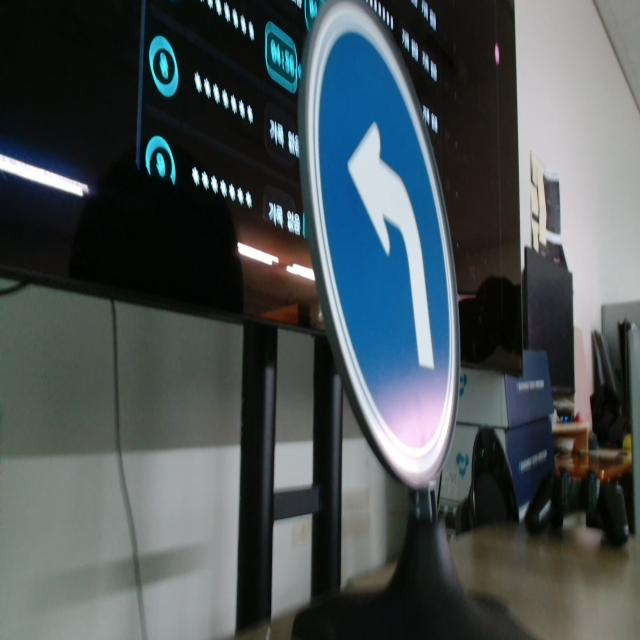left_direction: (294, 0, 473, 491)
